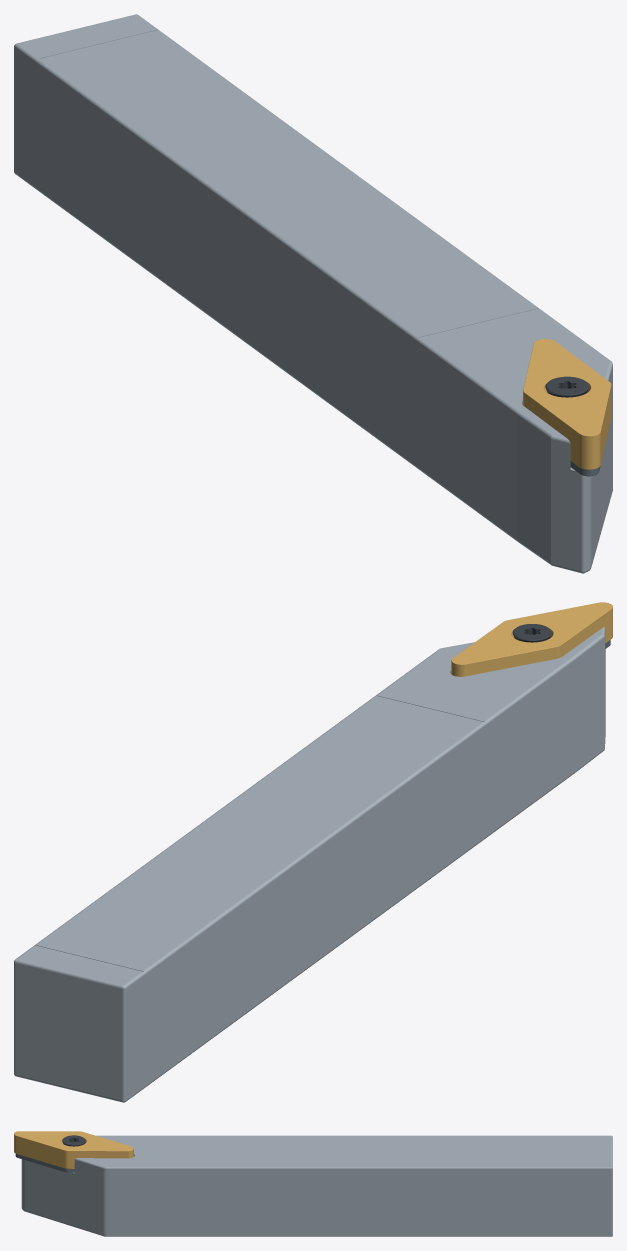
The model's file is tool35-r0.8.glb.
3 renders of one model, top to bottom at view 1: azimuth 30°, elevation 25°; view 2: azimuth 150°, elevation 25°; view 3: azimuth 270°, elevation 25°, orthographic. The views are drawn at different scales.
Parts seen in each view (by area): view 1: Holder_Main, Carbide_Insert_35deg, Screw_Head; view 2: Holder_Main, Carbide_Insert_35deg; view 3: Holder_Main, Carbide_Insert_35deg, Insert_Seat, Screw_Head.
Boxes of the visible parts, <box> form: Holder_Main: <box>14,14,612,573</box>; Carbide_Insert_35deg: <box>523,339,611,469</box>; Screw_Head: <box>545,376,589,397</box>; Holder_Main: <box>14,627,605,1102</box>; Carbide_Insert_35deg: <box>451,602,612,676</box>; Holder_Main: <box>21,1135,612,1236</box>; Carbide_Insert_35deg: <box>14,1131,133,1168</box>; Insert_Seat: <box>15,1154,74,1172</box>; Screw_Head: <box>62,1135,85,1146</box>.
Bounding box in the file's own units: 0.01 × 0.0111 × 0.0778.
